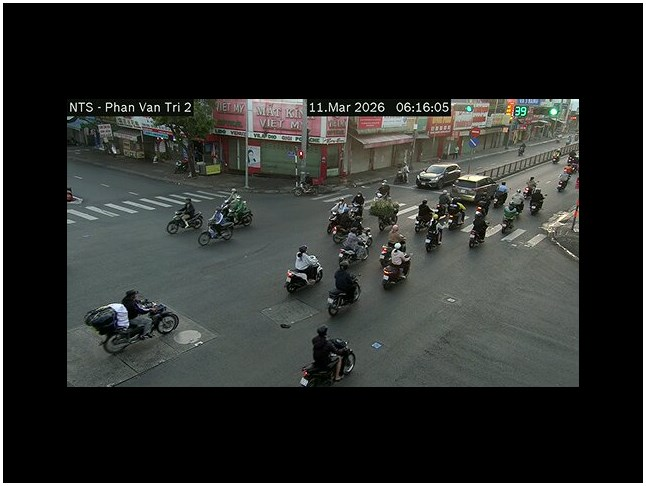car: (442, 175, 508, 207), (415, 162, 463, 189)
motorbike: (85, 296, 179, 355), (325, 274, 362, 318), (197, 209, 235, 246), (166, 200, 204, 236), (285, 258, 323, 293), (338, 226, 373, 262)
